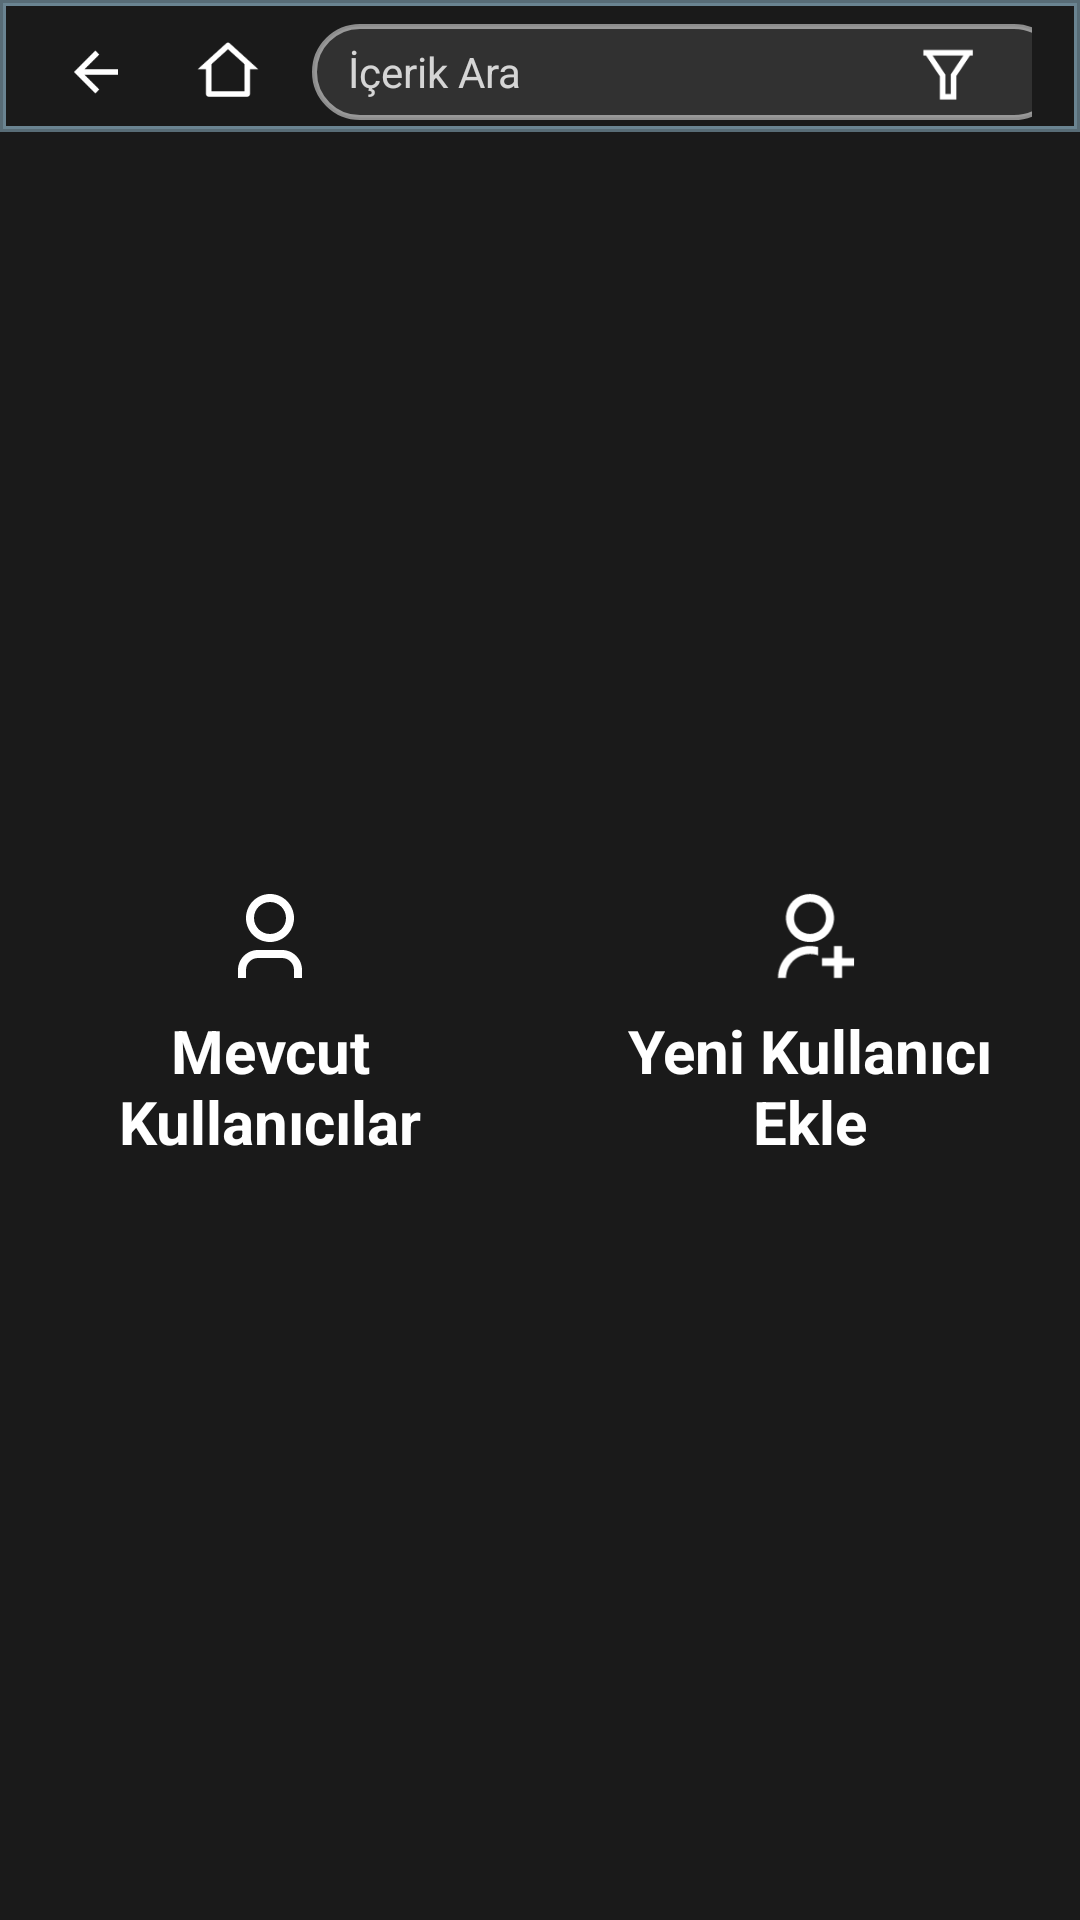

Locate icon controls on the screen. Image size 1080px x 1920px, boxes as detection(x1, y1, x2, y2).
Ana sayfaya git: detection(198, 42, 258, 97)
Geri dön: detection(74, 50, 118, 94)
